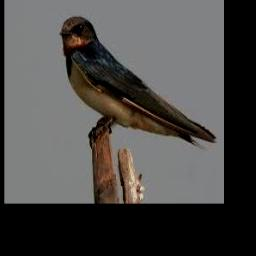Swallow: (60, 18, 216, 147)
